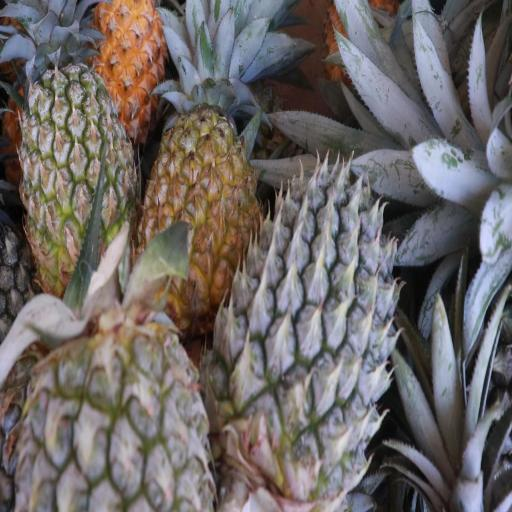------------------------------: (22, 67, 135, 285)
Pineapple - v8 v1: (144, 103, 253, 316), (73, 0, 162, 105)
